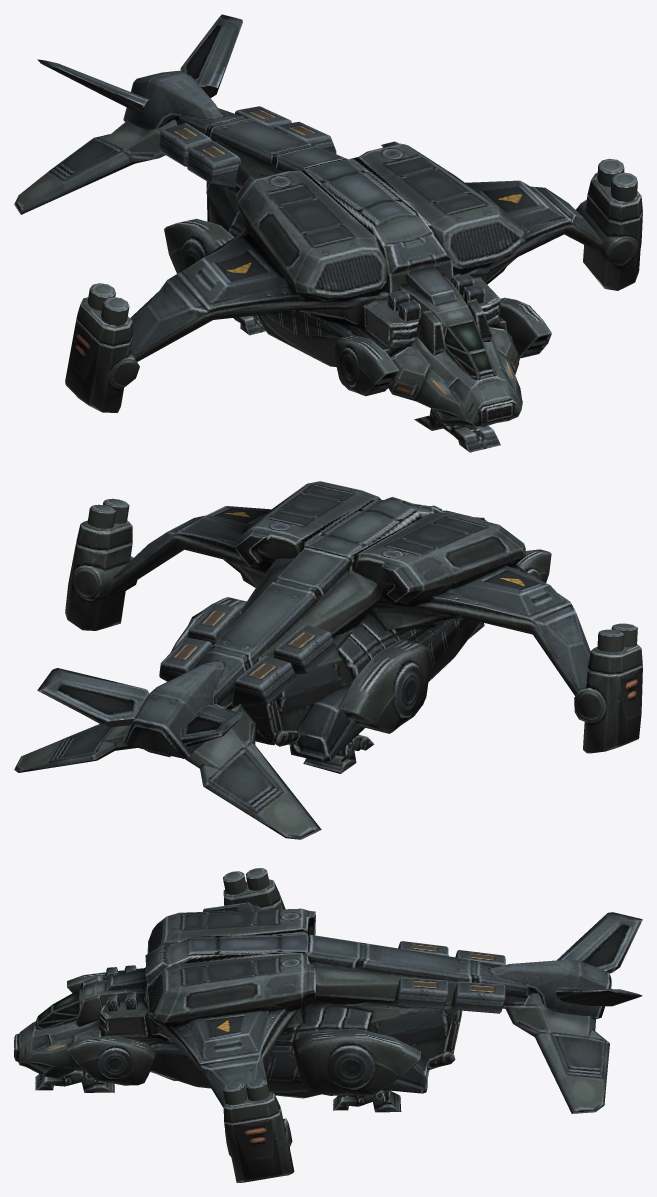
File: Condor.glb
The picture shows the model from 3 angles, top to bottom: view 1: azimuth 30°, elevation 25°; view 2: azimuth 150°, elevation 25°; view 3: azimuth 270°, elevation 25°; orthographic projection. The views are drawn at different scales.
Visible parts, largest first — view 1: Mesh; view 2: Mesh; view 3: Mesh.
Boxes of the visible parts, bbox=[...] form: Mesh: bbox=[14, 14, 642, 452]; Mesh: bbox=[14, 481, 642, 839]; Mesh: bbox=[14, 868, 642, 1182].
Size of the model in its own units: 1.77 by 0.5178 by 2.02.
Materials: 1 (1 with a texture image).
